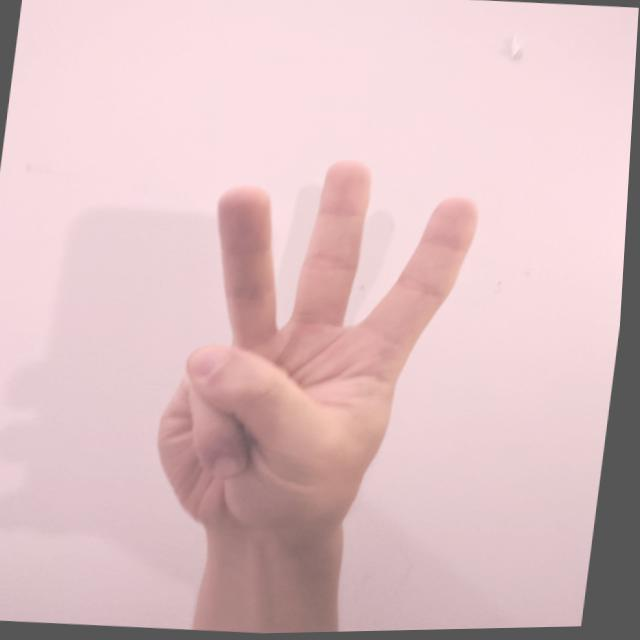W: (143, 141, 496, 552)
